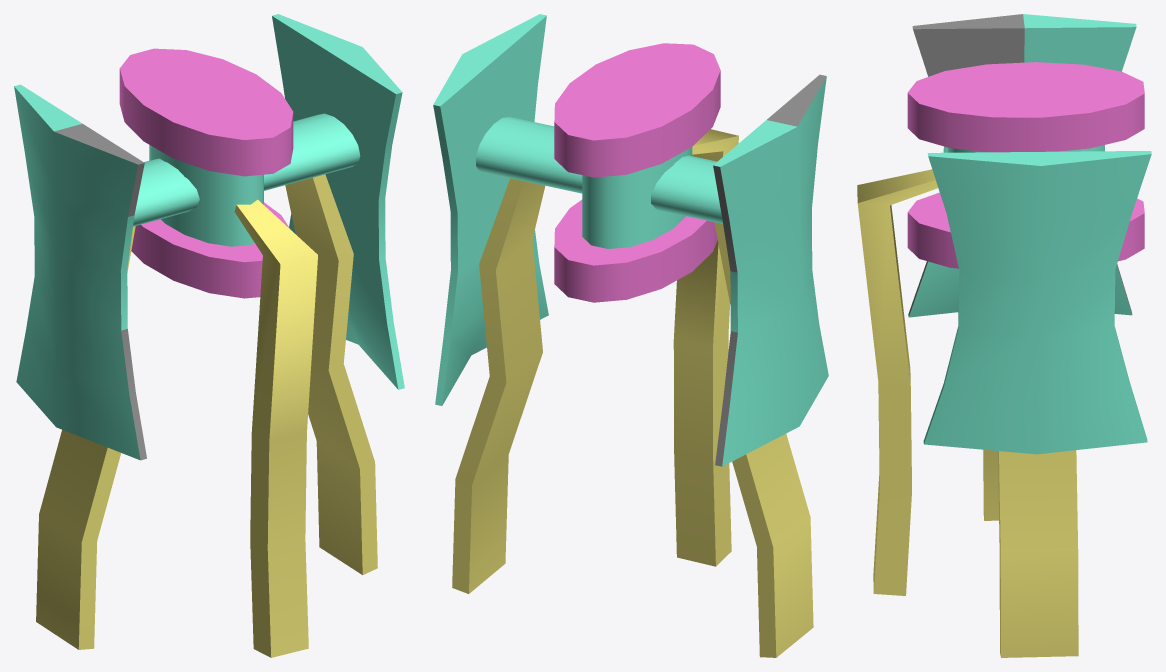
Rendered from SocleDesArmes.FBX.
The picture shows the model from 3 angles, left to right: view 1: azimuth 30°, elevation 25°; view 2: azimuth 150°, elevation 25°; view 3: azimuth 270°, elevation 25°; orthographic projection. The views are drawn at different scales.
Parts seen in each view (by area): view 1: Box025; view 2: Box025; view 3: Box025.
Part boxes in pixels (bbox=[...]): Box025: bbox=[14, 14, 404, 657]; Box025: bbox=[433, 14, 828, 657]; Box025: bbox=[857, 14, 1151, 657].
Bounding box in the file's own units: 195 × 298 × 159.
